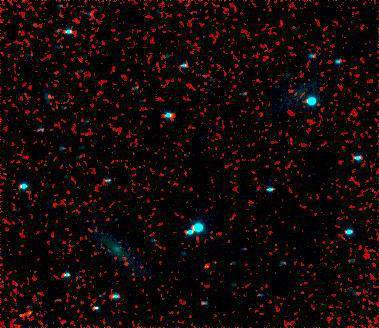star: (240, 214, 270, 244)
